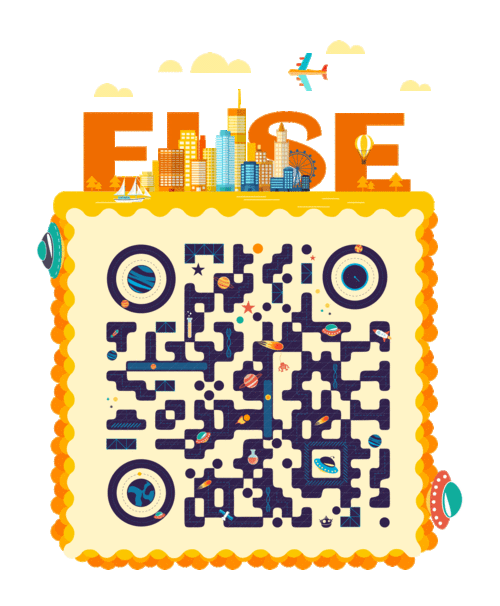QRCode: (101, 232, 406, 537)
